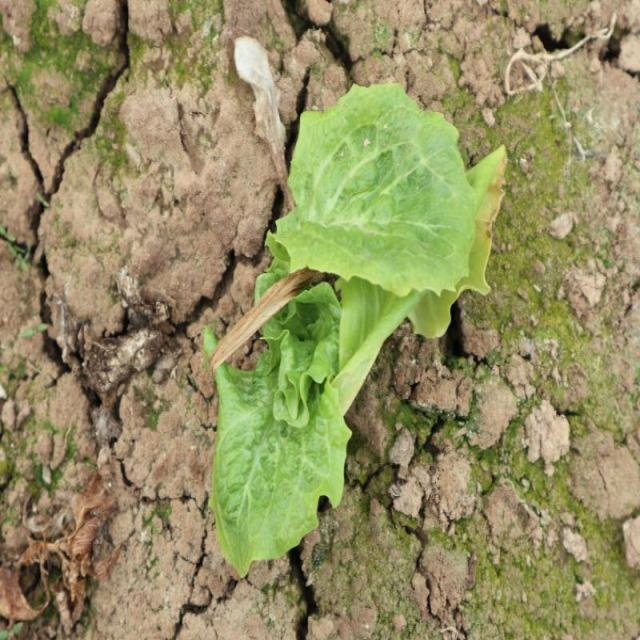crop: (213, 76, 509, 578)
